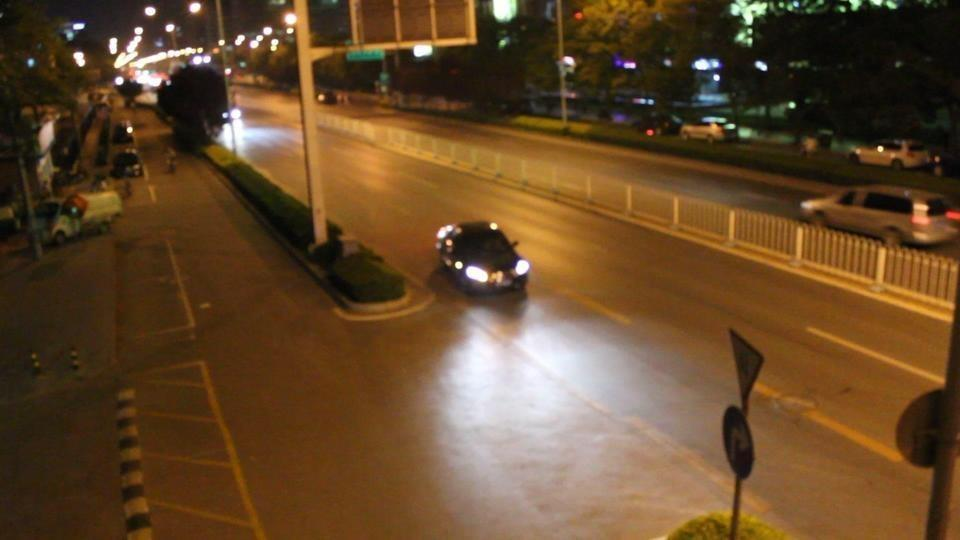car: (800, 186, 959, 250), (435, 220, 531, 296), (35, 189, 124, 246), (848, 139, 938, 172), (681, 119, 738, 143), (636, 112, 685, 137), (110, 151, 145, 178), (112, 122, 134, 144)
